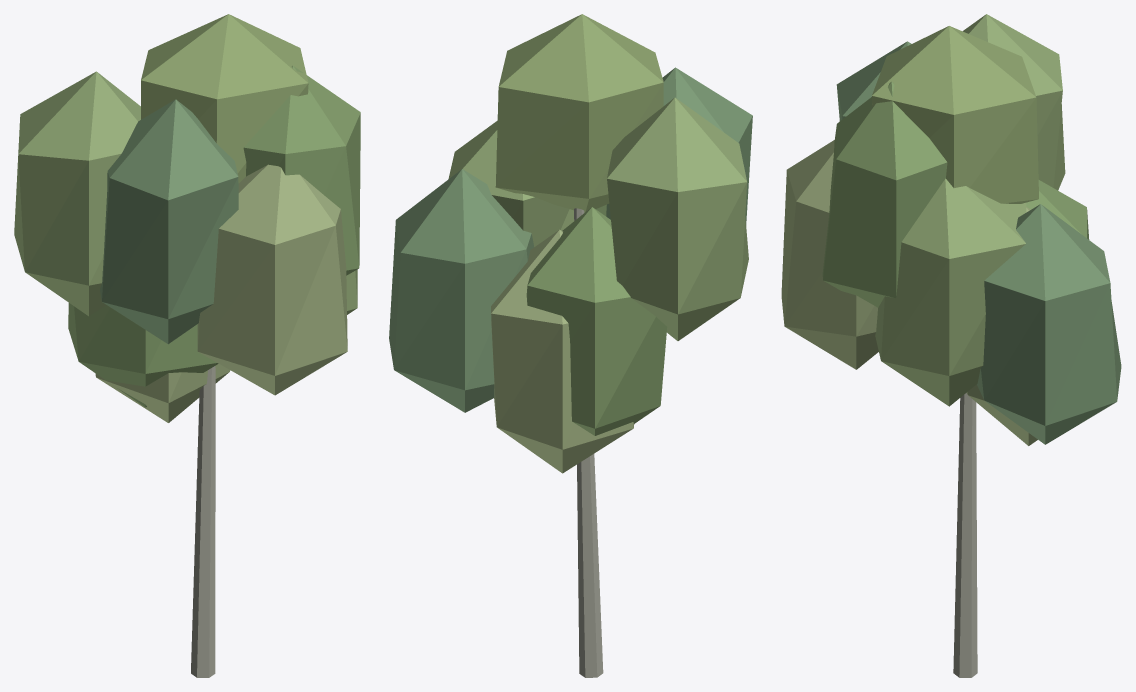
The picture shows the model from 3 angles, left to right: view 1: azimuth 30°, elevation 25°; view 2: azimuth 150°, elevation 25°; view 3: azimuth 270°, elevation 25°; orthographic projection.
Size of the model in its own units: 8.31 by 15.56 by 7.31.
